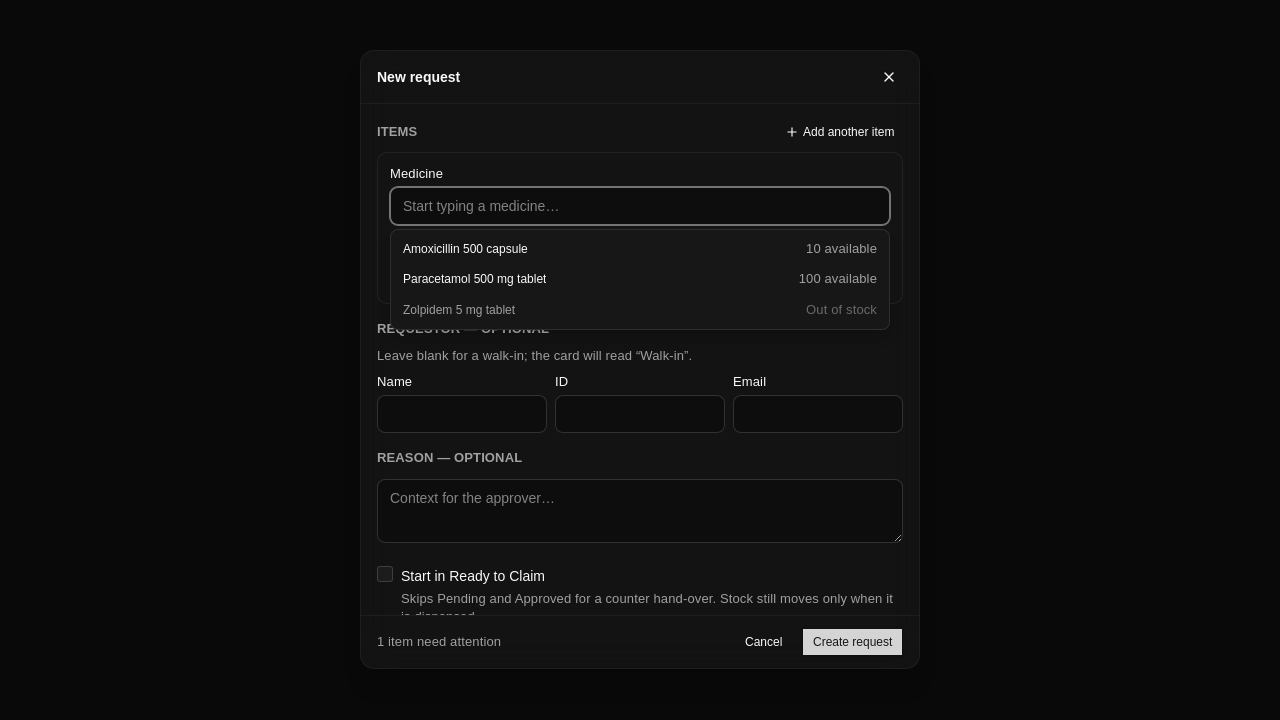
Scenario: NewRequestModal stock validation (spec §4–§6) › reports drift instead of writing, keeps the form open and disables submit
Type "Paracetamol 500 mg tablet" into the dropdown with placeholder "Start typing a medicine…" at (640, 207), box [390,188,890,226]
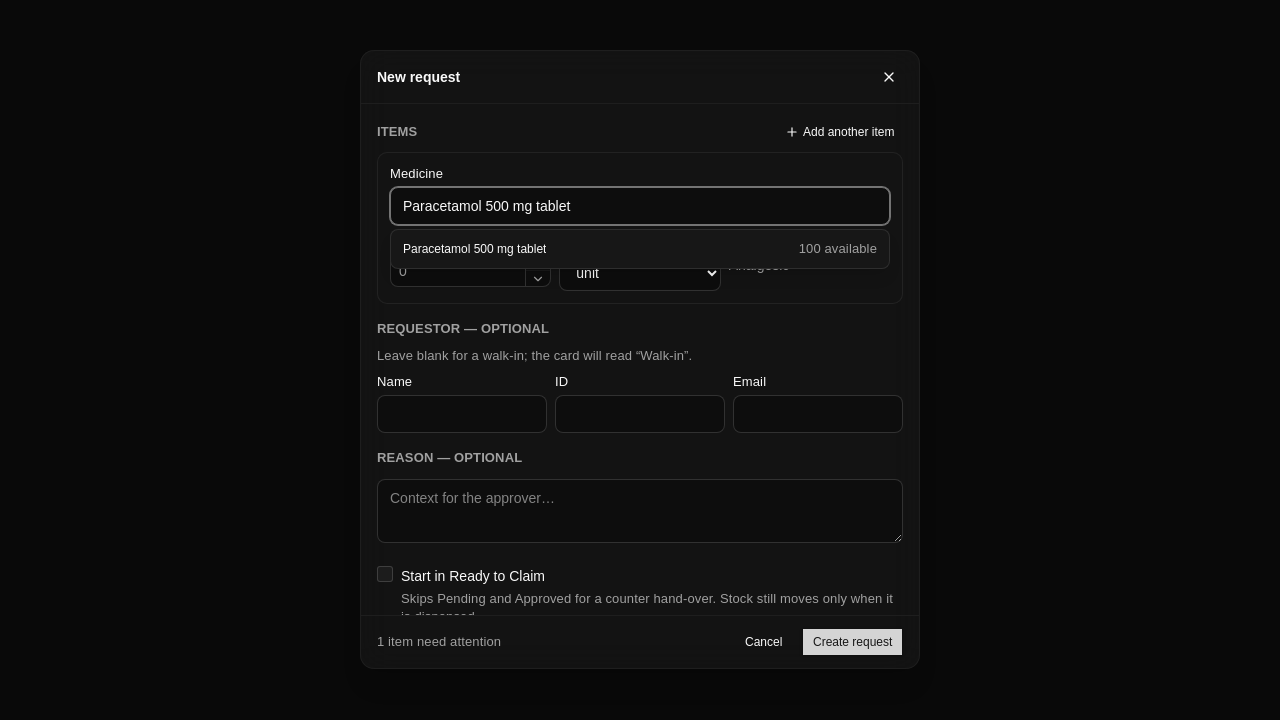
Select "tabs" in the dropdown labelled "Unit" at (640, 274), box [559,256,721,292]
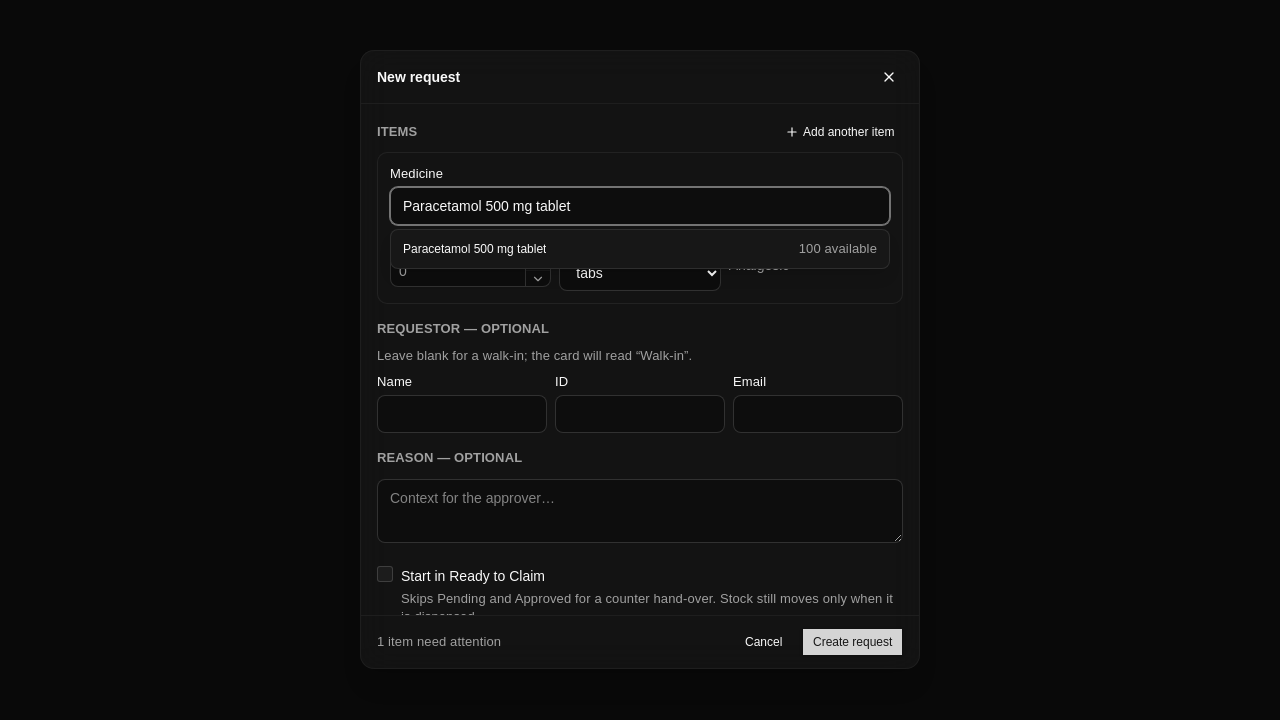
Type "5" into the number field named "Quantity" at (458, 272), box [391,257,525,287]
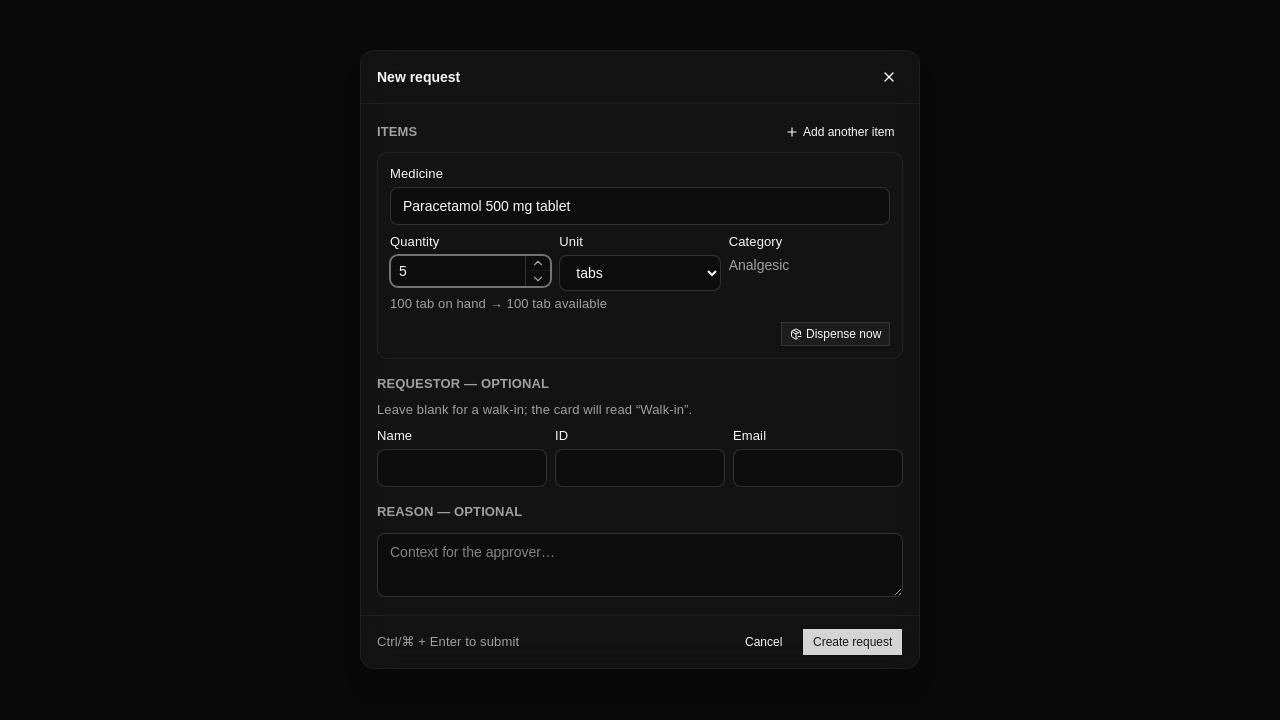
Click the button "Create request" at (852, 643), box [802,629,903,657]
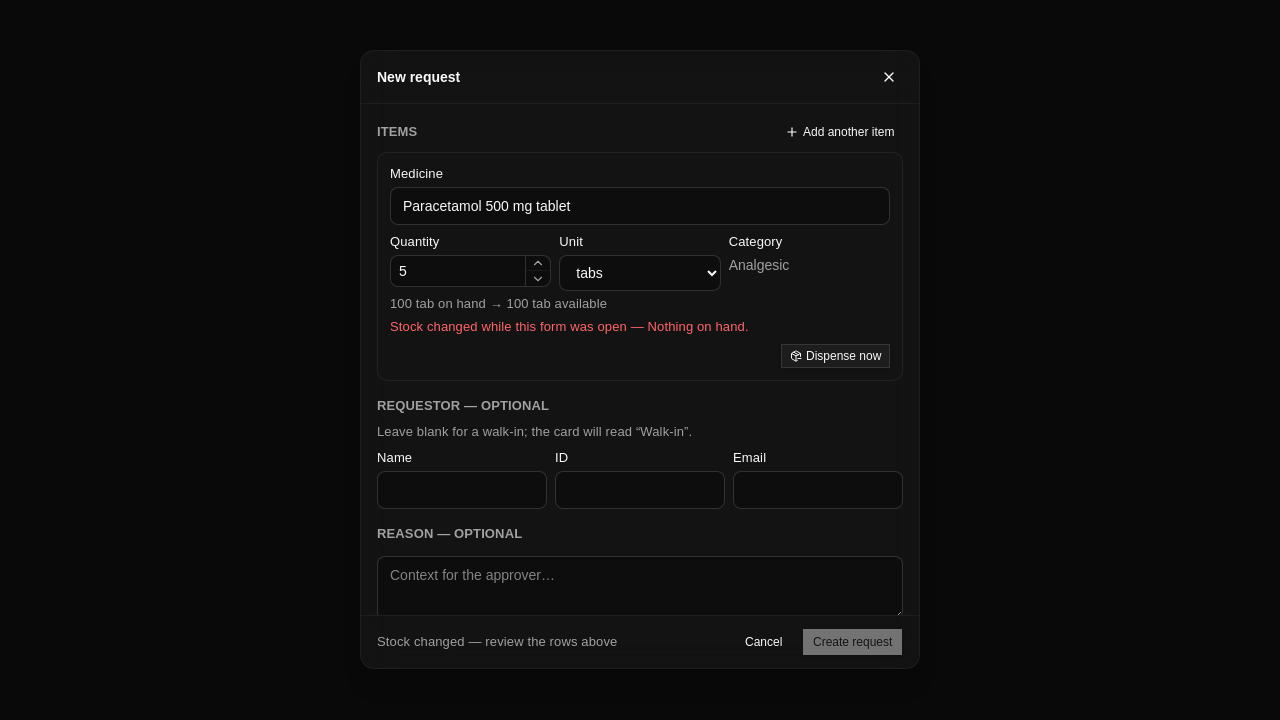
Expected: the text "Stock changed while this form was open — Nothing on hand." is shown, [390,319,749,334]
Expected: the button "Create request" is disabled, [802,629,903,657]
